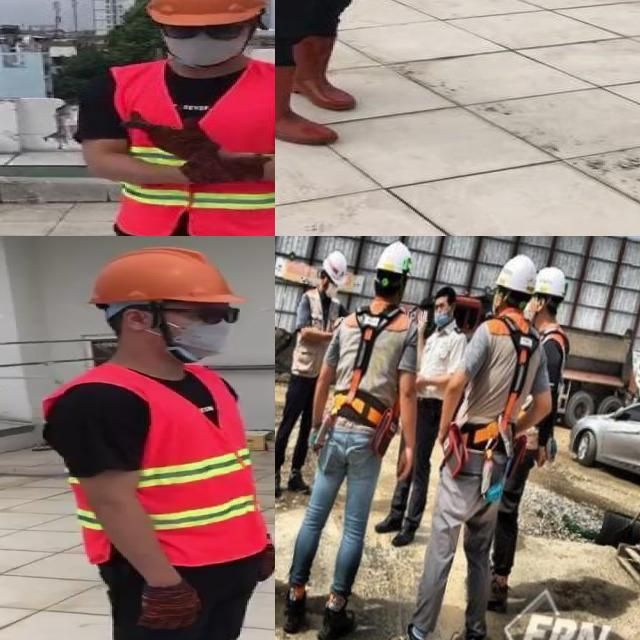Harness: (473, 316, 540, 456), (331, 307, 402, 428)
No_Ear-Protection: (119, 306, 155, 338)
boots: (275, 62, 336, 146), (292, 36, 358, 110)
face_mask: (160, 16, 250, 66)
glasses: (157, 20, 251, 44)
hand_glove: (130, 114, 266, 182)
head_helmet: (85, 247, 238, 304), (133, 0, 271, 27)
person: (8, 246, 275, 640), (81, 0, 275, 236), (275, 0, 427, 149)
vest: (40, 362, 268, 565), (109, 58, 275, 236)
